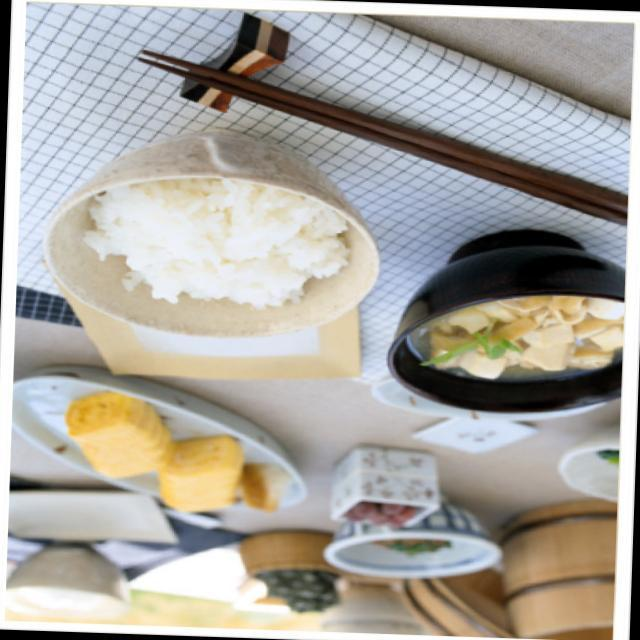Rice: (83, 176, 359, 318)
